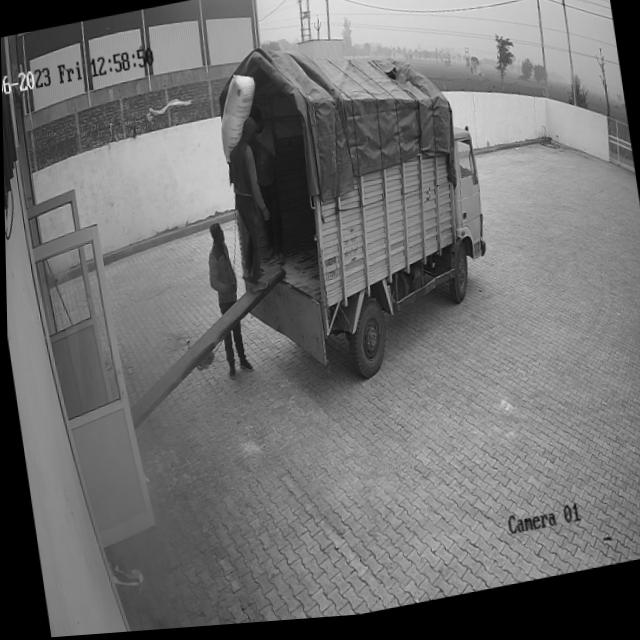sack: (212, 72, 266, 171)
